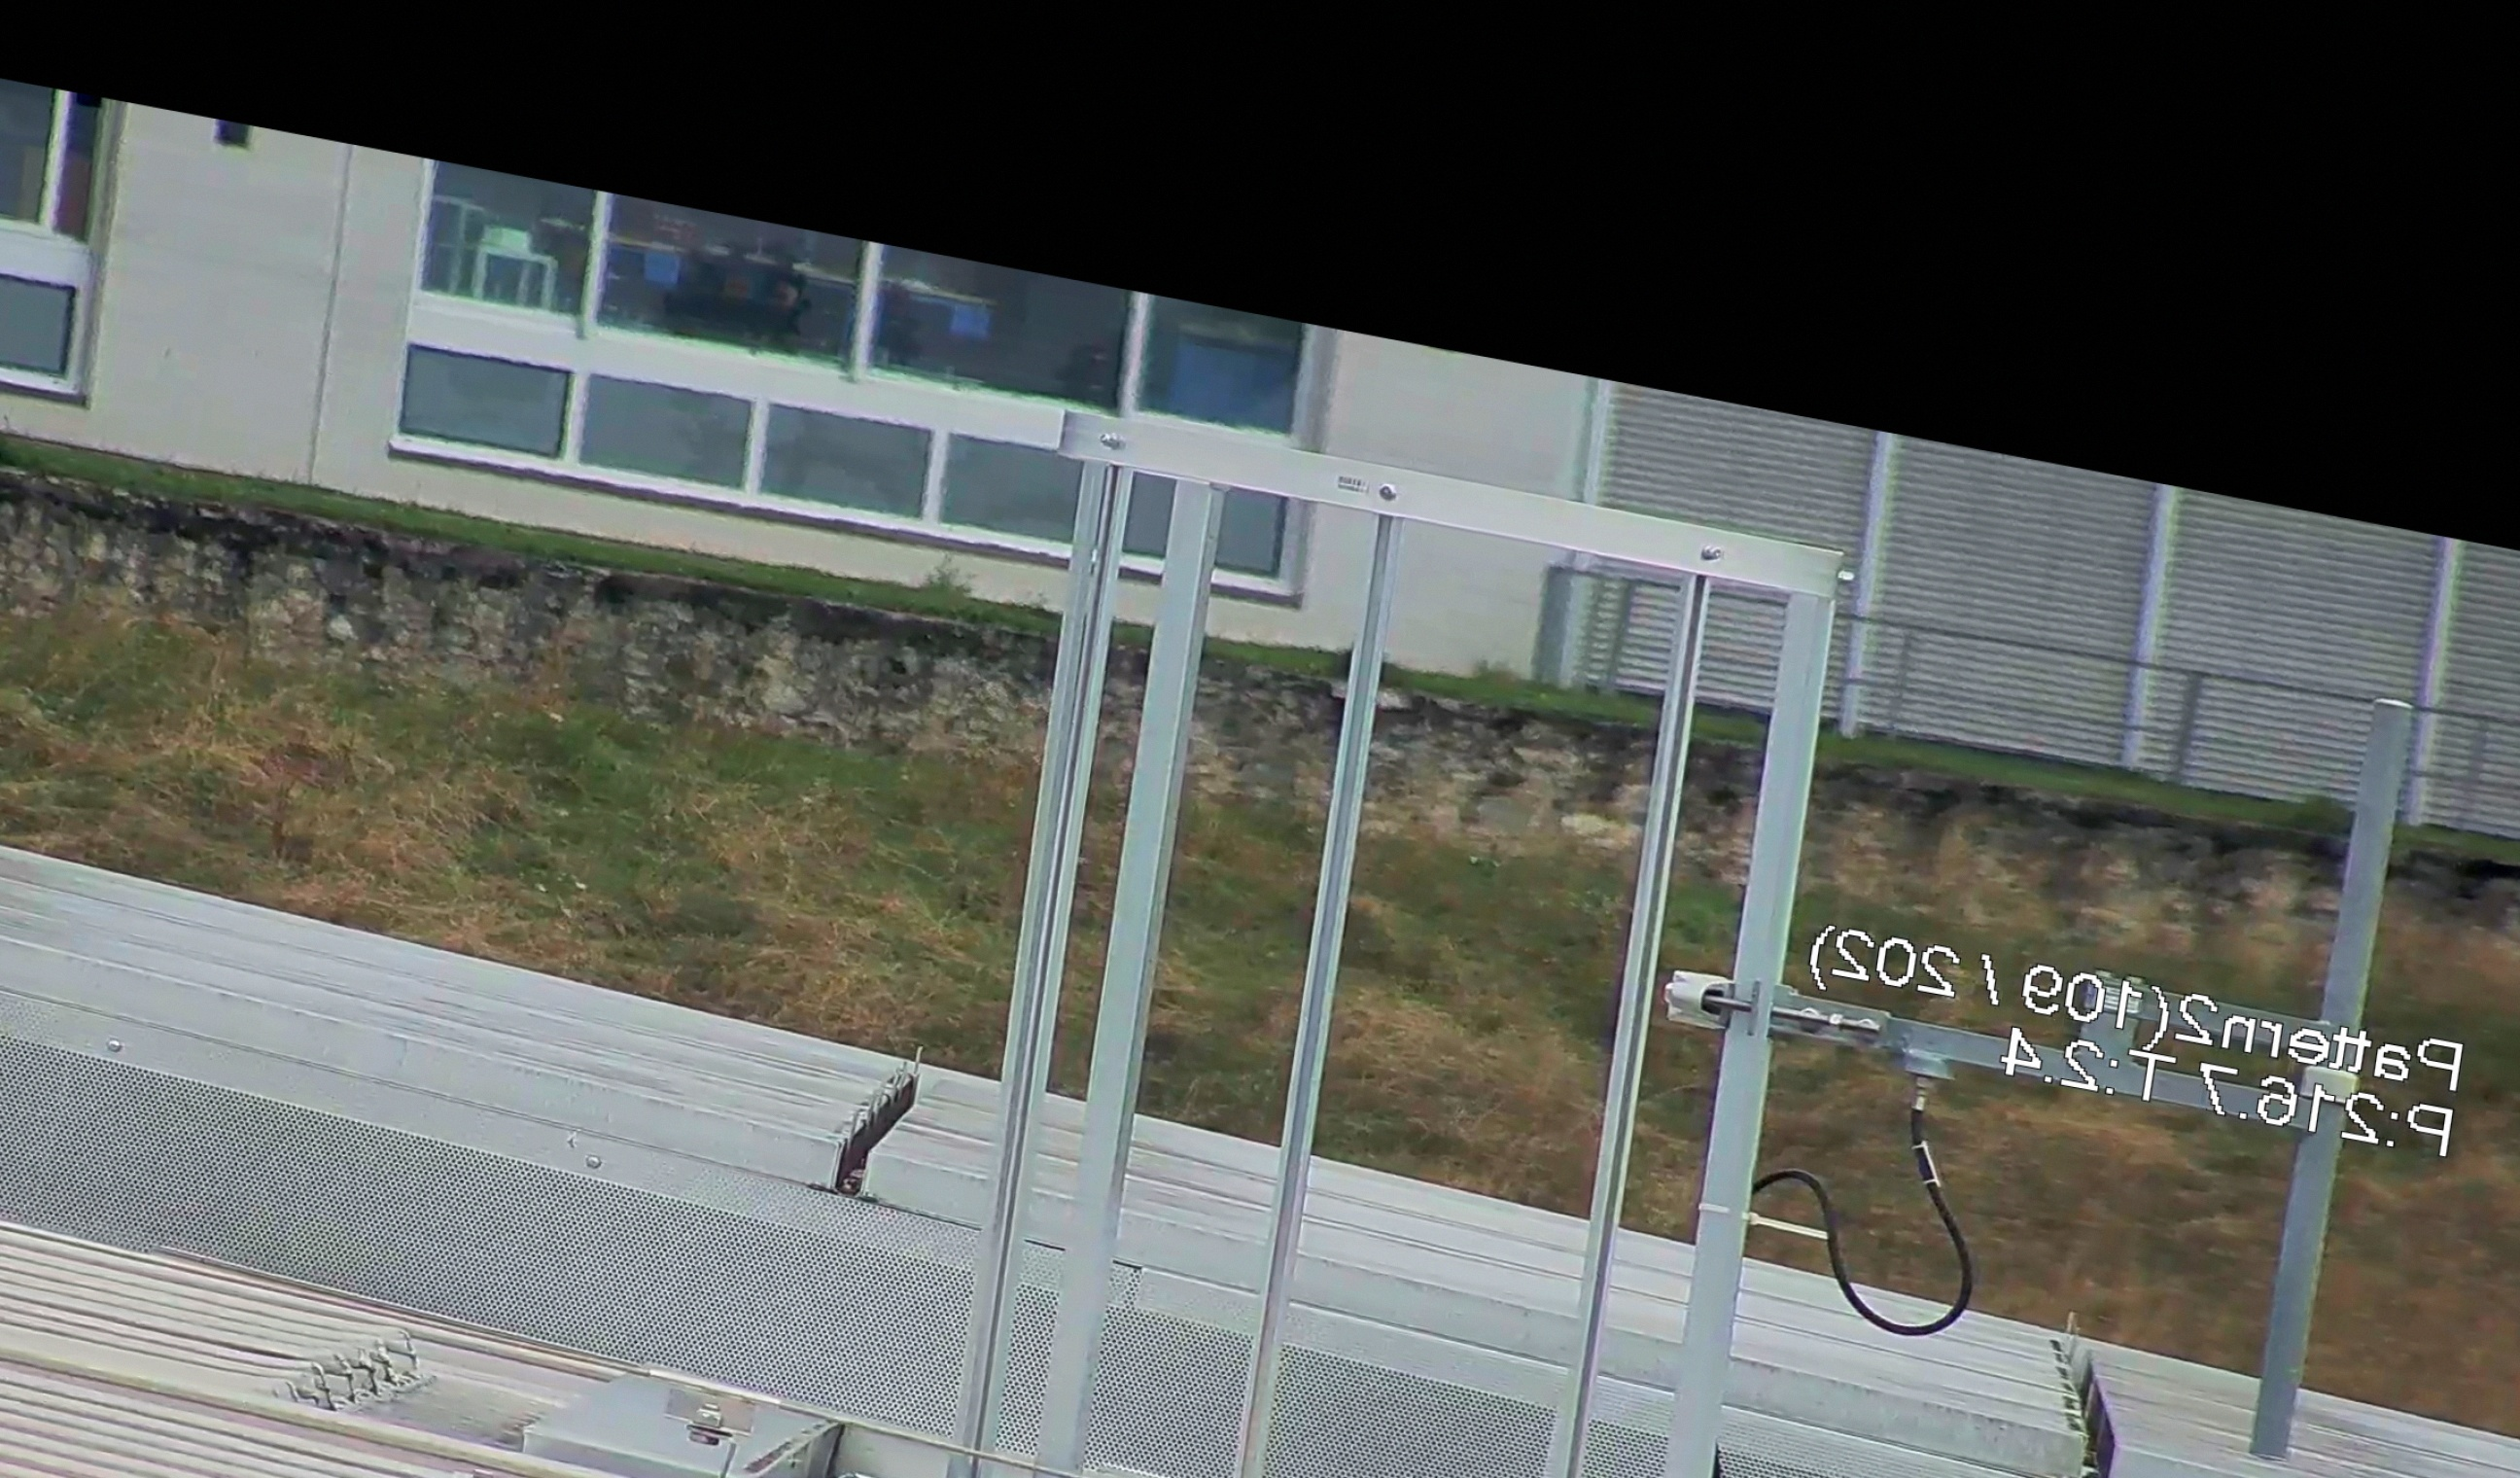Other: (802, 1035, 951, 1223)
